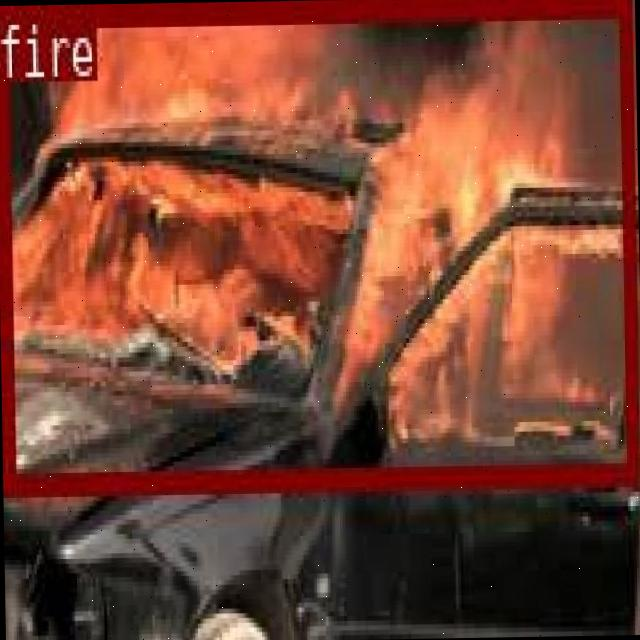fire: (0, 0, 637, 492)
